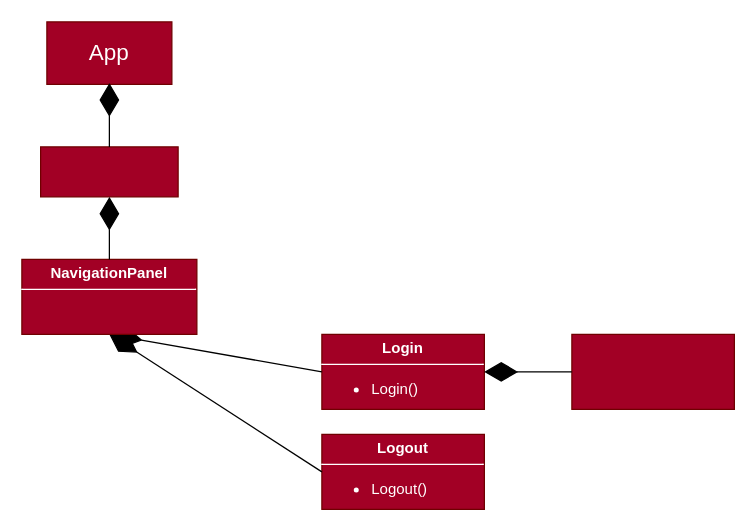
The diagram is 756 pixels wide and 531 high, and some of its shapes have lost their labels. Each missing label, with the box of its shape:
MainPage: (39, 146, 178, 197)
SignIn SignIn(): (571, 333, 734, 409)
